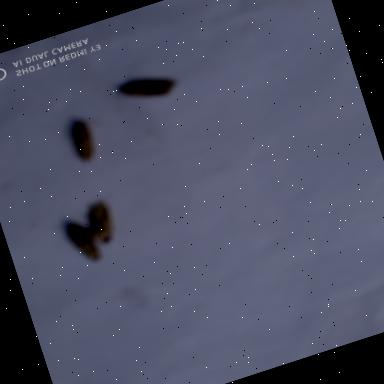pbw: (70, 194, 128, 257), (110, 62, 180, 112), (55, 213, 109, 274), (56, 110, 107, 168)
